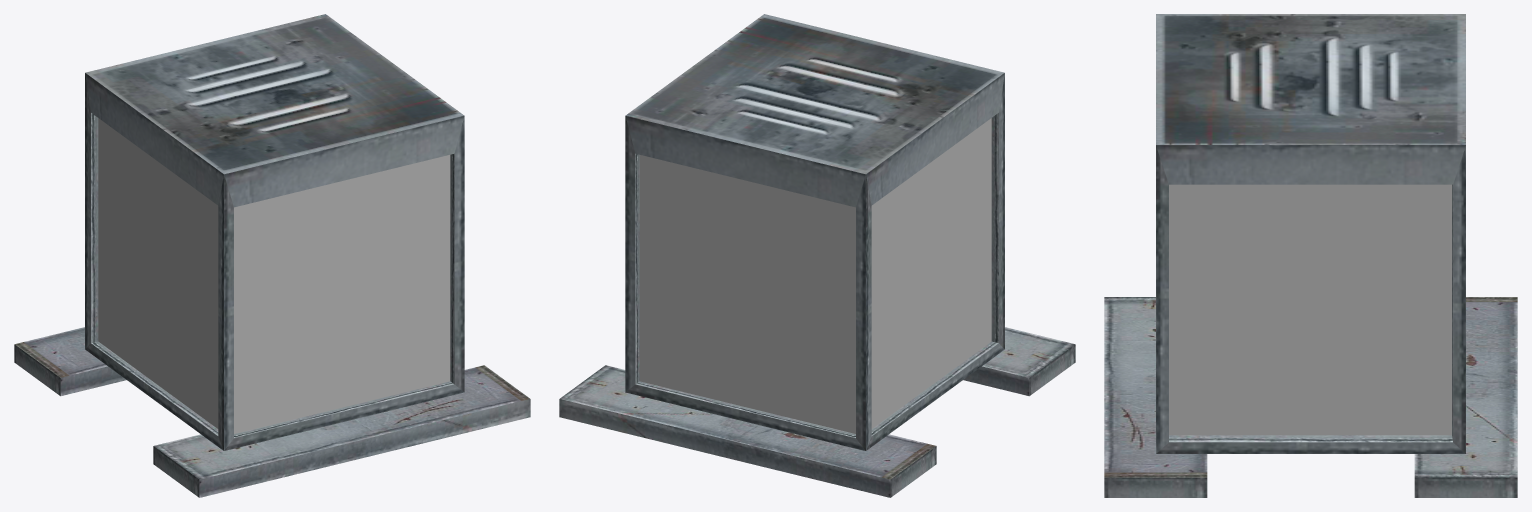
File: Air_vent_roof.fbx
The picture shows the model from 3 angles, left to right: view 1: azimuth 30°, elevation 25°; view 2: azimuth 150°, elevation 25°; view 3: azimuth 270°, elevation 25°; orthographic projection. The views are drawn at different scales.
Parts seen in each view (by area): view 1: Air_vent_roof; view 2: Air_vent_roof; view 3: Air_vent_roof.
Boxes of the visible parts, box(x1,y1,x2,y2) form: Air_vent_roof: box(14, 14, 530, 497); Air_vent_roof: box(559, 14, 1075, 497); Air_vent_roof: box(1104, 14, 1517, 497).
Size of the model in its own units: 132 by 113 by 128.
